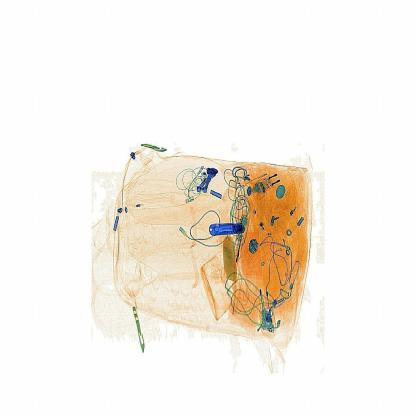knife: (206, 216, 256, 242)
